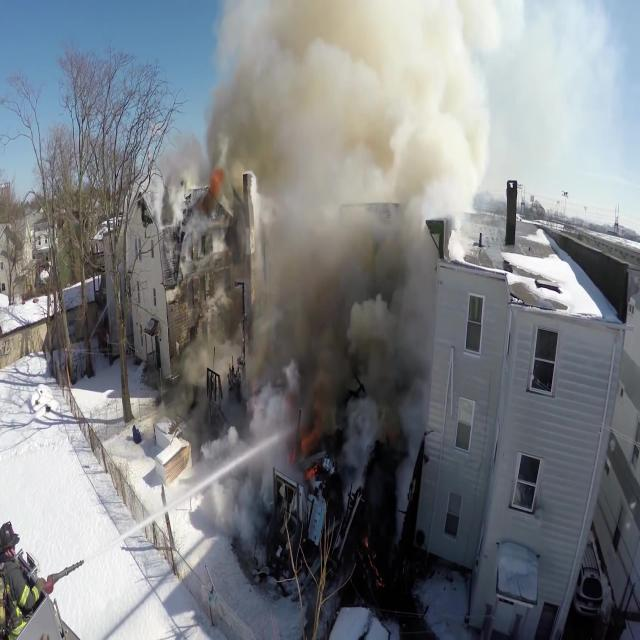Fire: (287, 404, 330, 498), (200, 161, 226, 207)
Smoke: (149, 0, 494, 561)
